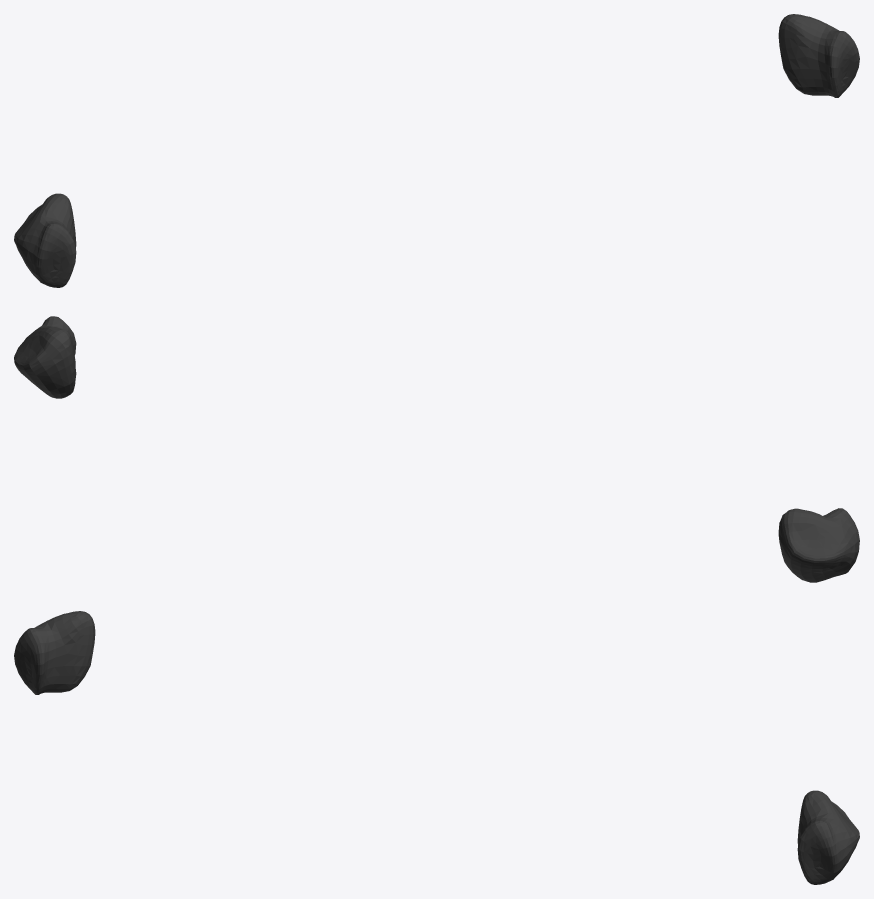
File: b_carpals_accessory_L_LO.glb
3 renders of one model, top to bottom at view 1: azimuth 30°, elevation 25°; view 2: azimuth 150°, elevation 25°; view 3: azimuth 330°, elevation 25°, orthographic.
Parts seen in each view (by area): view 1: b_carpals_accessory_L_LO; view 2: b_carpals_accessory_L_LO; view 3: b_carpals_accessory_L_LO.
Boxes of the visible parts, x1,y1,x2,y2 form: b_carpals_accessory_L_LO: (14,14,859,287); b_carpals_accessory_L_LO: (14,316,859,582); b_carpals_accessory_L_LO: (14,611,859,884).
Size of the model in its own units: 0.00327 by 0.000283 by 0.00029.
Materials: 1 (1 with a texture image).
